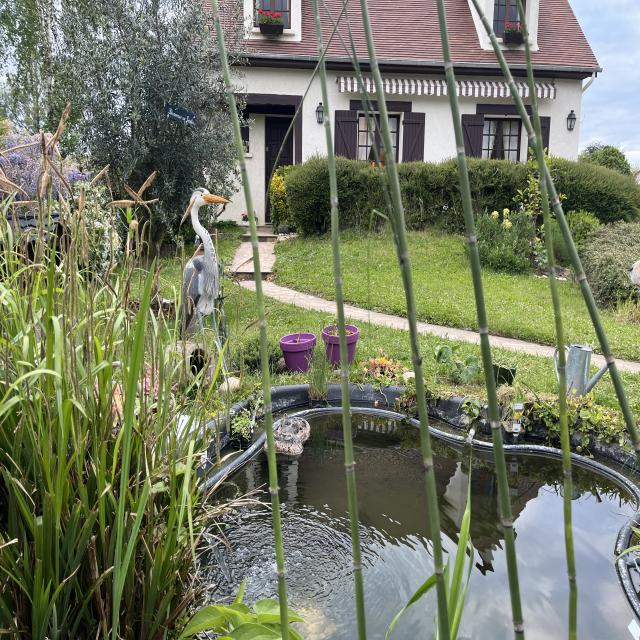Heron: (174, 178, 232, 363)
